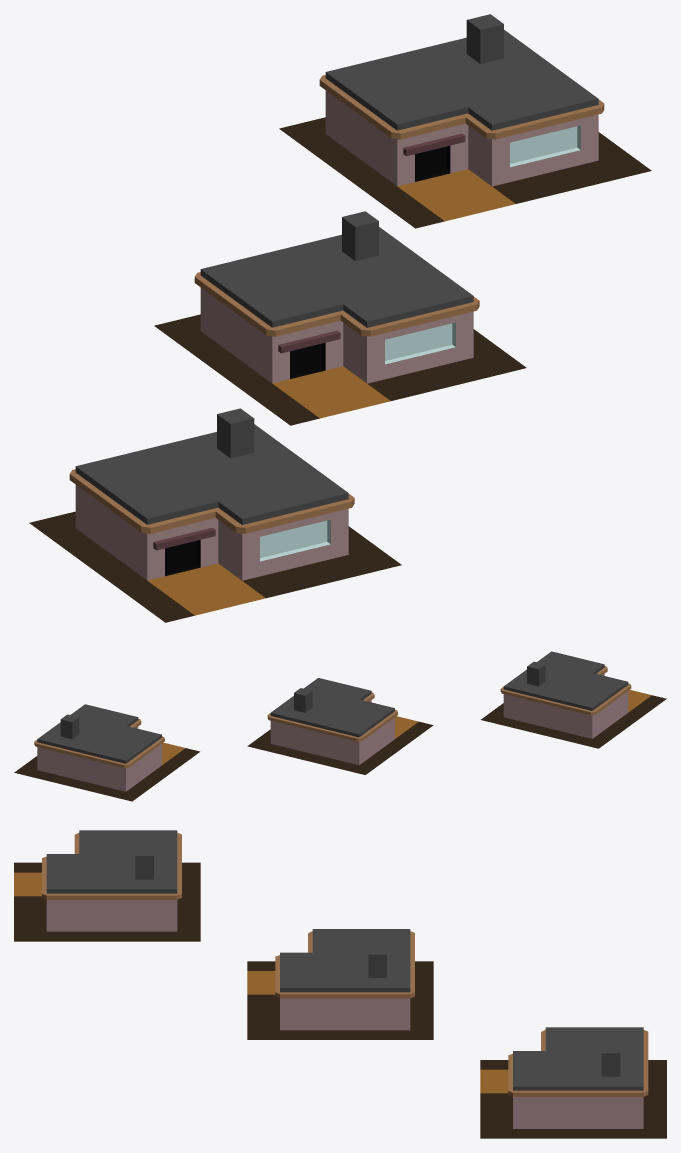
The model's file is forge.glb.
3 renders of one model, top to bottom at view 1: azimuth 30°, elevation 25°; view 2: azimuth 150°, elevation 25°; view 3: azimuth 270°, elevation 25°, orthographic. The views are drawn at different scales.
Parts seen in each view (by area): view 1: Cube.002, Cube.004, Cube.001; view 2: Cube.004, Cube.002, Cube.001; view 3: Cube.004, Cube.002, Cube.001.
Boxes of the visible parts, x1=… form: Cube.002: x1=279, y1=14, x2=651, y2=228; Cube.004: x1=29, y1=408, x2=401, y2=622; Cube.001: x1=154, y1=211, x2=526, y2=425; Cube.004: x1=481, y1=651, x2=666, y2=748; Cube.002: x1=14, y1=704, x2=199, y2=801; Cube.001: x1=247, y1=678, x2=433, y2=774; Cube.004: x1=14, y1=830, x2=200, y2=941; Cube.002: x1=480, y1=1027, x2=666, y2=1138; Cube.001: x1=247, y1=929, x2=433, y2=1039.
Size of the model in its own units: 0.14 by 0.0155 by 0.14.
